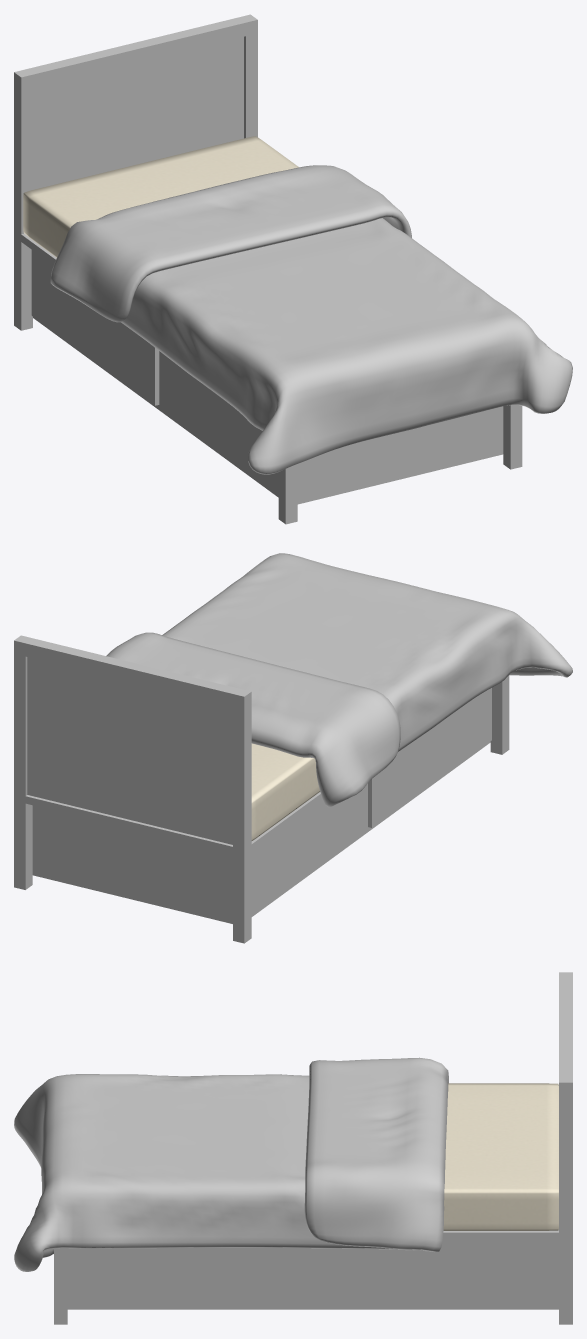
File: Bed11.fbx
The picture shows the model from 3 angles, top to bottom: view 1: azimuth 30°, elevation 25°; view 2: azimuth 150°, elevation 25°; view 3: azimuth 270°, elevation 25°; orthographic projection. The views are drawn at different scales.
Parts seen in each view (by area): view 1: Blanket11, BedFrame11, Mattress11, BedFrame11_Drawer01, BedFrame11_Drawer02; view 2: BedFrame11, Blanket11, BedFrame11_Drawer01, BedFrame11_Drawer02, Mattress11; view 3: Blanket11, BedFrame11, Mattress11.
Part boxes in pixels (x1,y1,x2,y2): Blanket11: [50, 165, 572, 474]; BedFrame11: [14, 14, 522, 524]; Mattress11: [23, 136, 298, 257]; BedFrame11_Drawer01: [31, 250, 159, 405]; BedFrame11_Drawer02: [159, 351, 278, 495]; BedFrame11: [14, 635, 509, 943]; Blanket11: [106, 553, 572, 807]; BedFrame11_Drawer01: [251, 783, 367, 915]; BedFrame11_Drawer02: [368, 688, 491, 827]; Mattress11: [251, 743, 320, 840]; Blanket11: [14, 1057, 448, 1271]; BedFrame11: [54, 972, 572, 1324]; Mattress11: [443, 1083, 558, 1230].
Bounding box in the file's own units: 146 × 108 × 226.
